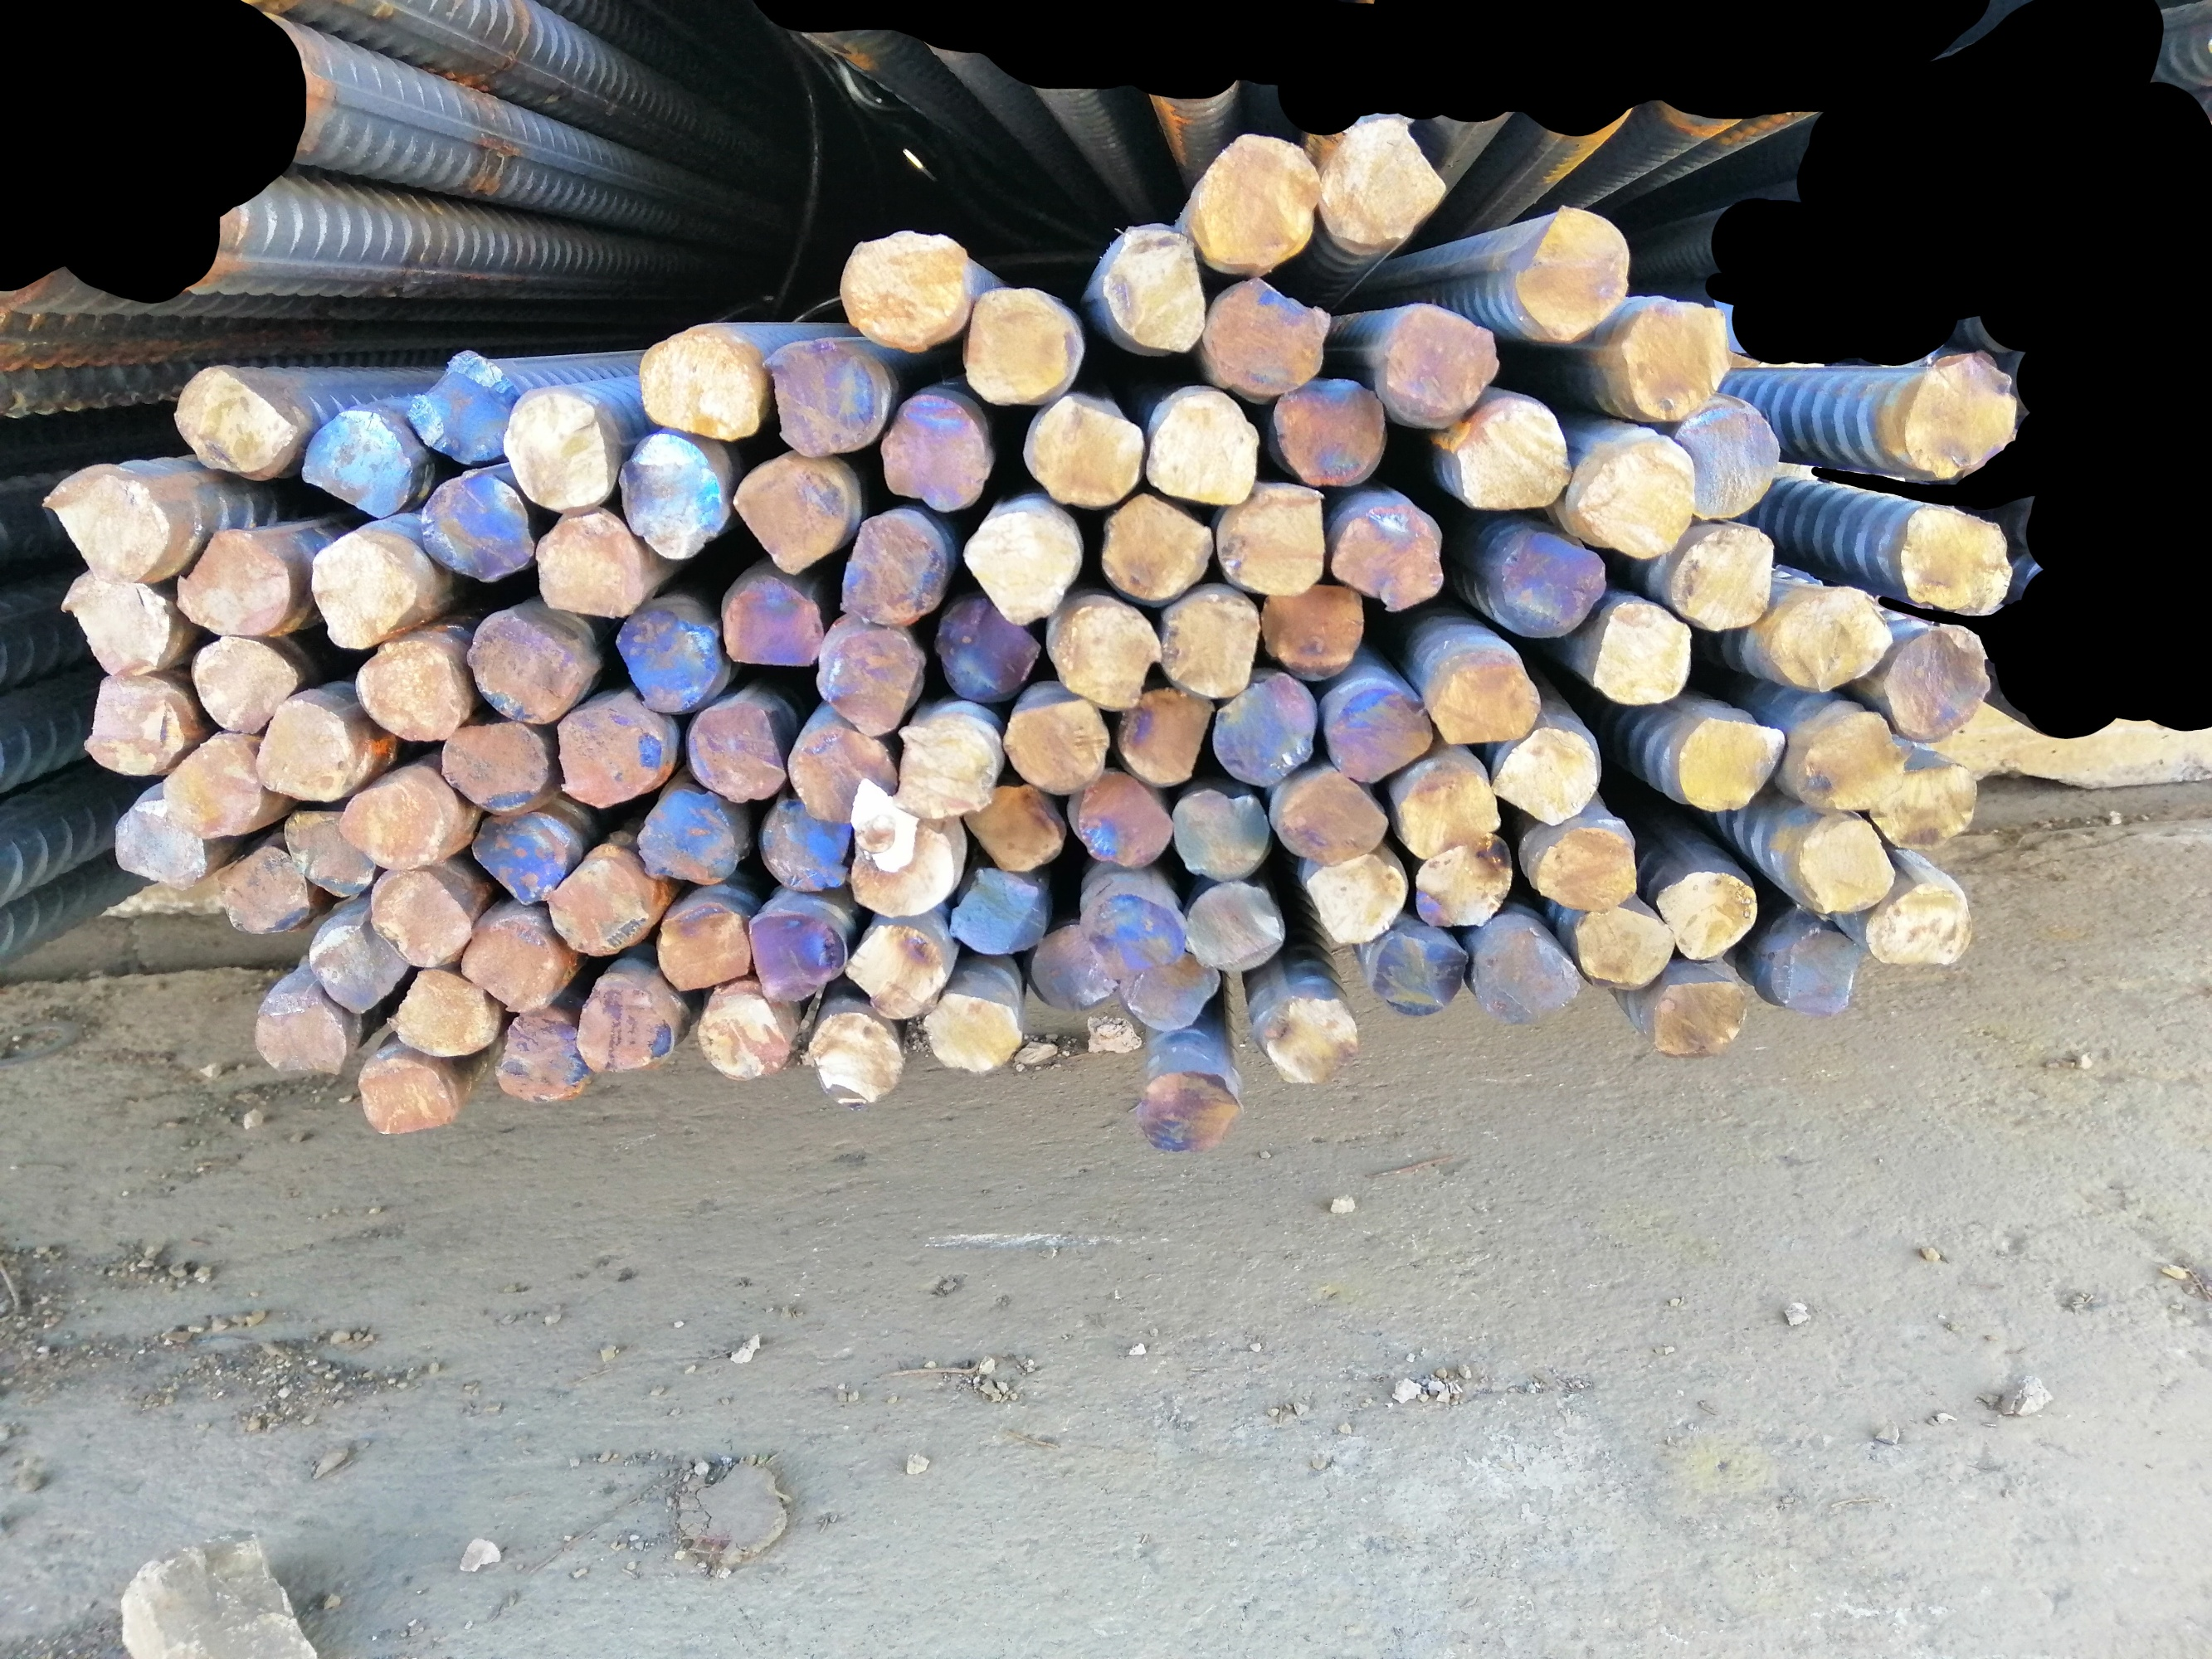rebar: (1314, 108, 1449, 251), (1194, 134, 1323, 277), (1508, 204, 1635, 345), (1368, 298, 1501, 432), (1203, 275, 1335, 403), (37, 458, 171, 584), (842, 227, 971, 354), (1572, 434, 1700, 561), (960, 502, 1089, 627), (762, 336, 892, 460), (1900, 349, 2020, 483), (640, 317, 763, 446), (1436, 397, 1574, 512), (734, 450, 858, 577), (1095, 220, 1210, 356), (1137, 387, 1260, 509), (166, 361, 295, 477), (1616, 293, 1731, 422), (500, 390, 617, 516), (619, 430, 727, 565), (1893, 502, 2015, 620), (879, 390, 995, 512), (1881, 626, 1998, 748), (464, 610, 587, 725), (1021, 396, 1145, 511), (962, 286, 1081, 404), (1208, 477, 1325, 598), (1269, 373, 1388, 490), (295, 404, 415, 519), (404, 347, 519, 467), (418, 471, 535, 587), (1325, 500, 1447, 612), (1487, 528, 1609, 640), (176, 526, 295, 640), (837, 507, 952, 622), (1051, 596, 1166, 711), (1771, 586, 1895, 692), (811, 622, 924, 737), (309, 530, 418, 648), (612, 592, 718, 714), (1102, 493, 1215, 606), (59, 572, 176, 681), (553, 701, 666, 812), (535, 507, 648, 619), (847, 807, 960, 918), (1679, 401, 1780, 525), (1788, 807, 1898, 918), (361, 866, 476, 972), (1428, 641, 1543, 748), (1490, 723, 1605, 829), (784, 720, 901, 824), (1210, 674, 1320, 784), (1795, 708, 1907, 816), (352, 640, 469, 742), (1670, 714, 1788, 816), (685, 695, 793, 805), (568, 971, 680, 1077), (1157, 587, 1262, 701), (75, 674, 190, 777), (1473, 918, 1581, 1026), (1588, 596, 1696, 704), (540, 852, 650, 958), (1001, 692, 1110, 798), (934, 596, 1041, 706), (1396, 753, 1503, 863), (1670, 521, 1776, 631), (1269, 769, 1389, 864), (896, 713, 1001, 823), (1865, 870, 1977, 972), (462, 911, 575, 1012), (741, 904, 849, 1009), (1259, 579, 1363, 687), (187, 634, 300, 734), (1358, 924, 1471, 1023), (335, 777, 450, 875), (253, 697, 356, 805), (159, 728, 260, 838), (439, 721, 556, 816), (844, 920, 950, 1023), (302, 915, 410, 1014), (631, 789, 739, 889), (720, 572, 830, 669), (1255, 993, 1367, 1089), (1299, 849, 1410, 945), (1651, 870, 1762, 965), (385, 967, 502, 1058), (1069, 770, 1175, 870), (471, 810, 579, 908), (959, 779, 1067, 877), (1328, 687, 1438, 782), (1764, 924, 1869, 1023), (1137, 1065, 1246, 1159), (253, 983, 352, 1086), (1112, 683, 1215, 782), (809, 1007, 905, 1114), (1077, 889, 1189, 979), (1869, 756, 1980, 847), (112, 791, 211, 892), (1410, 833, 1515, 929), (945, 868, 1051, 962), (1532, 829, 1642, 918), (1572, 903, 1673, 999), (277, 807, 380, 901), (1178, 882, 1286, 971), (488, 1012, 591, 1105), (1645, 978, 1755, 1063), (1173, 784, 1271, 880), (1119, 941, 1220, 1033), (354, 1053, 458, 1141), (220, 840, 316, 936), (654, 903, 751, 995), (697, 988, 790, 1084), (758, 793, 849, 890), (920, 990, 1023, 1073), (1028, 920, 1123, 1009)
